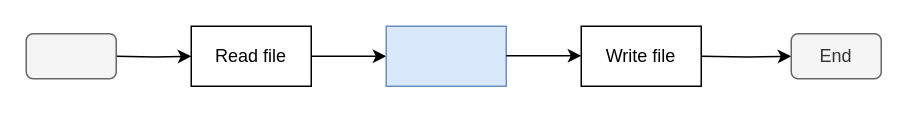
Some shapes in this 908 by 113 pixel diagram are drawn without their labels. Here are the shapes that lost their labels. From the top down, the box of each, then its label:
(25, 32, 116, 79): Start
(385, 25, 506, 86): Basic left edge alg
